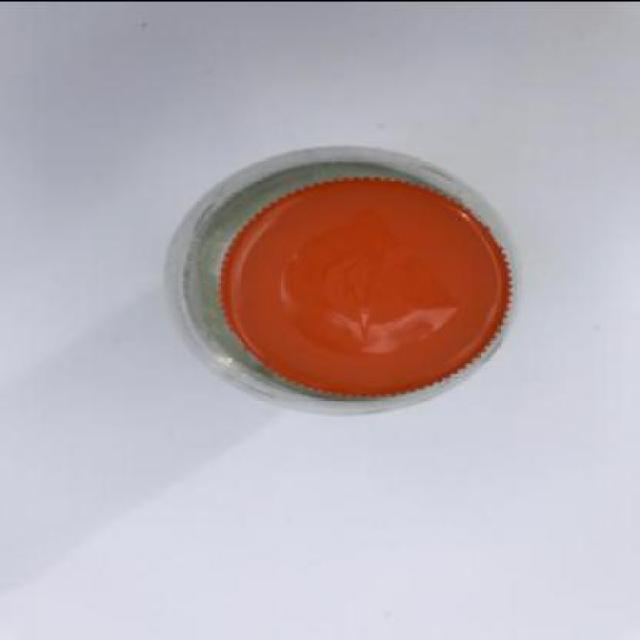PLASTIC: (162, 146, 516, 417), (216, 175, 512, 399)
